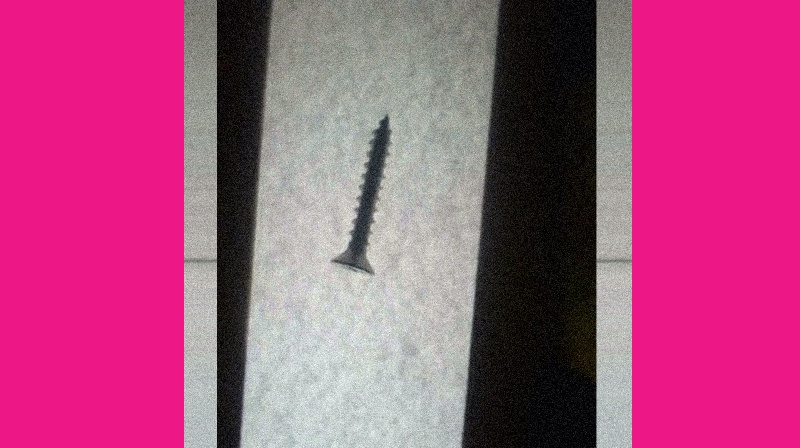S001: (328, 107, 399, 277)
